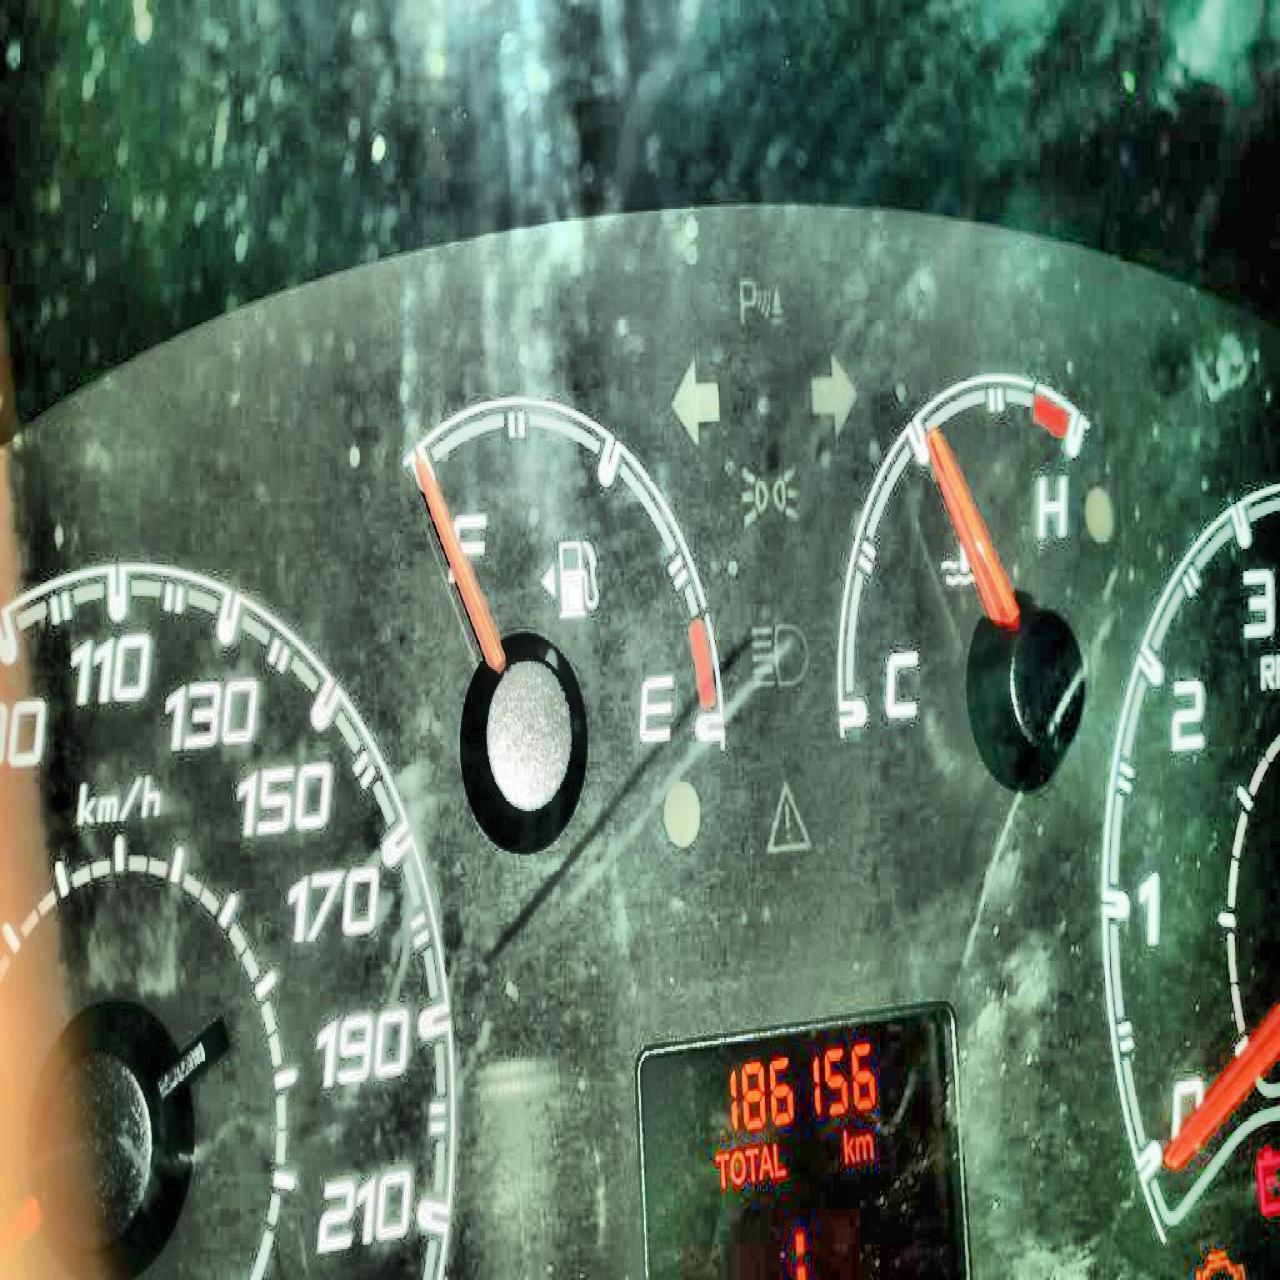1: (808, 1054, 822, 1116), (726, 1065, 739, 1131)
5: (822, 1044, 848, 1116)
6: (768, 1053, 794, 1127), (849, 1040, 876, 1111)
8: (739, 1058, 766, 1131)
X: (792, 1226, 806, 1278), (711, 1149, 729, 1189), (727, 1146, 745, 1184), (838, 1124, 854, 1164), (742, 1144, 758, 1182), (854, 1131, 874, 1160), (758, 1142, 772, 1180), (772, 1142, 786, 1178)
odometer: (632, 996, 972, 1278)
